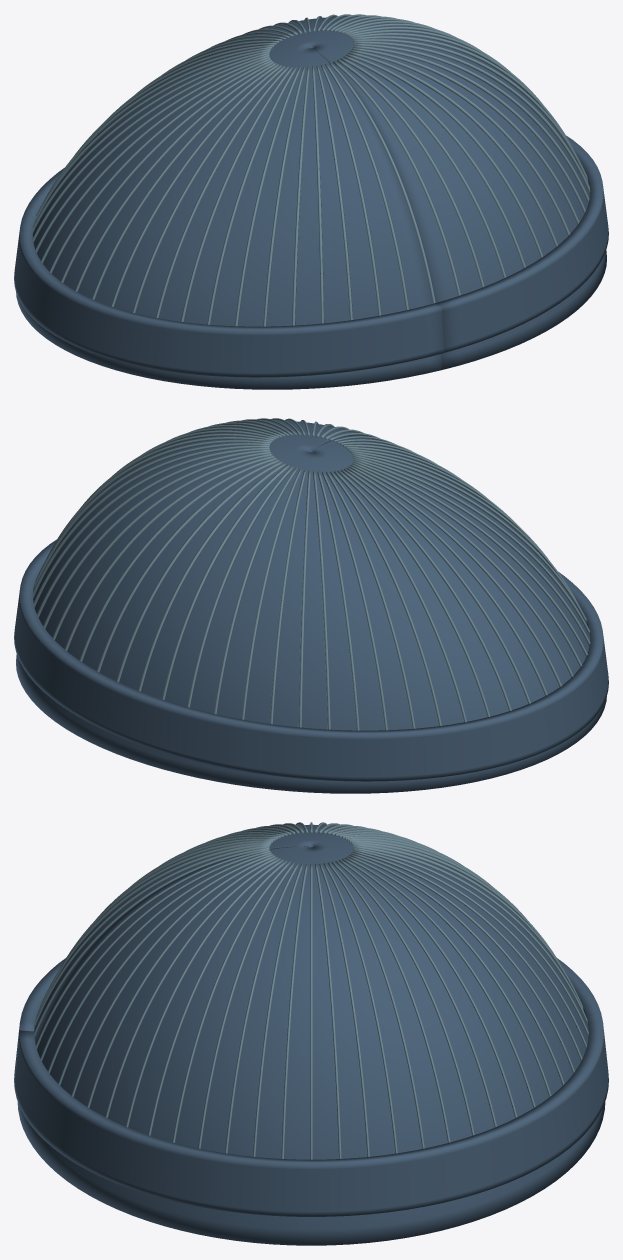
The model's file is Feminine-beanie-headgear.glb.
3 renders of one model, top to bottom at view 1: azimuth 30°, elevation 25°; view 2: azimuth 150°, elevation 25°; view 3: azimuth 270°, elevation 25°, orthographic. The views are drawn at different scales.
Visible parts, largest first — view 1: 226 headgear / Headwear / fabric226, 226 headgear / Headwear / seam226; view 2: 226 headgear / Headwear / fabric226, 226 headgear / Headwear / seam226; view 3: 226 headgear / Headwear / fabric226, 226 headgear / Headwear / seam226.
Boxes of the visible parts, box(x1,y1,x2,y2) form: 226 headgear / Headwear / fabric226: box(14, 16, 608, 389); 226 headgear / Headwear / seam226: box(32, 14, 590, 326); 226 headgear / Headwear / fabric226: box(14, 420, 608, 793); 226 headgear / Headwear / seam226: box(32, 418, 590, 730); 226 headgear / Headwear / fabric226: box(14, 824, 608, 1245); 226 headgear / Headwear / seam226: box(34, 822, 588, 1159).
Size of the model in its own units: 1.03 by 0.4278 by 0.886.
